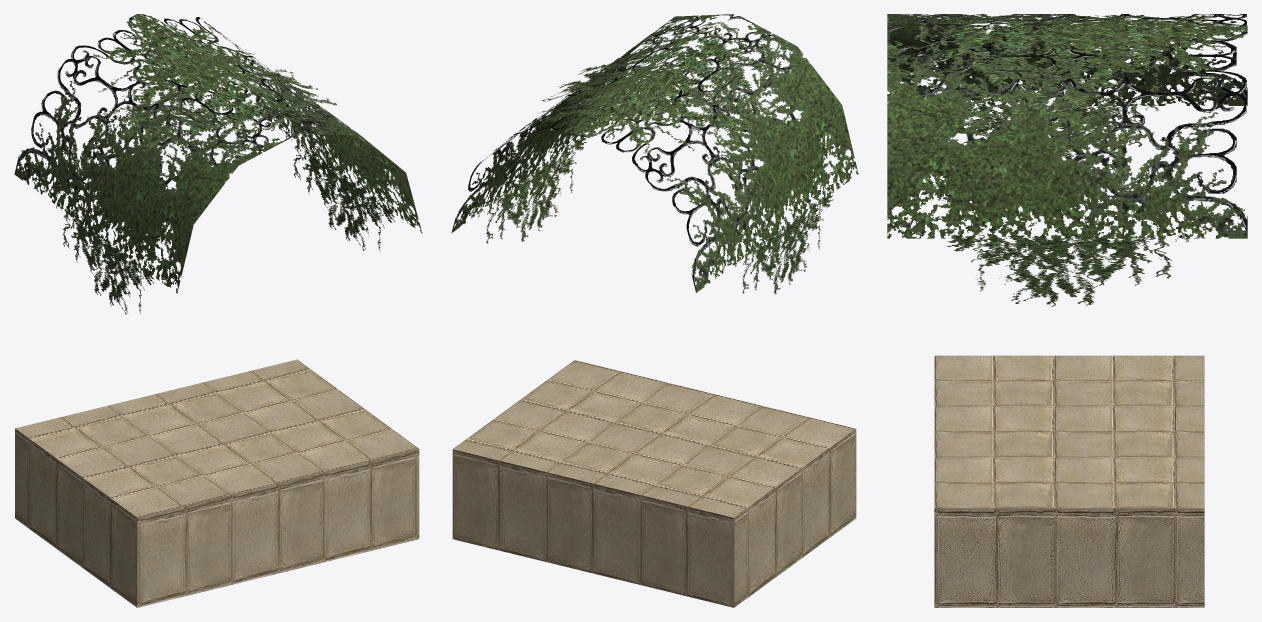
Rendered from thm_nboo_imprv_arbor_short_s02_l0.fbx.
3 renders of one model, left to right at view 1: azimuth 30°, elevation 25°; view 2: azimuth 150°, elevation 25°; view 3: azimuth 270°, elevation 25°, orthographic. The views are drawn at different scales.
Visible parts, largest first — view 1: mesh_node; view 2: mesh_node; view 3: mesh_node.
Boxes of the visible parts, bbox=[...] form: mesh_node: bbox=[14, 14, 422, 607]; mesh_node: bbox=[451, 14, 858, 607]; mesh_node: bbox=[887, 14, 1247, 607].
Size of the model in its own units: 4 by 6.22 by 4.
3 materials, 3 textured.
